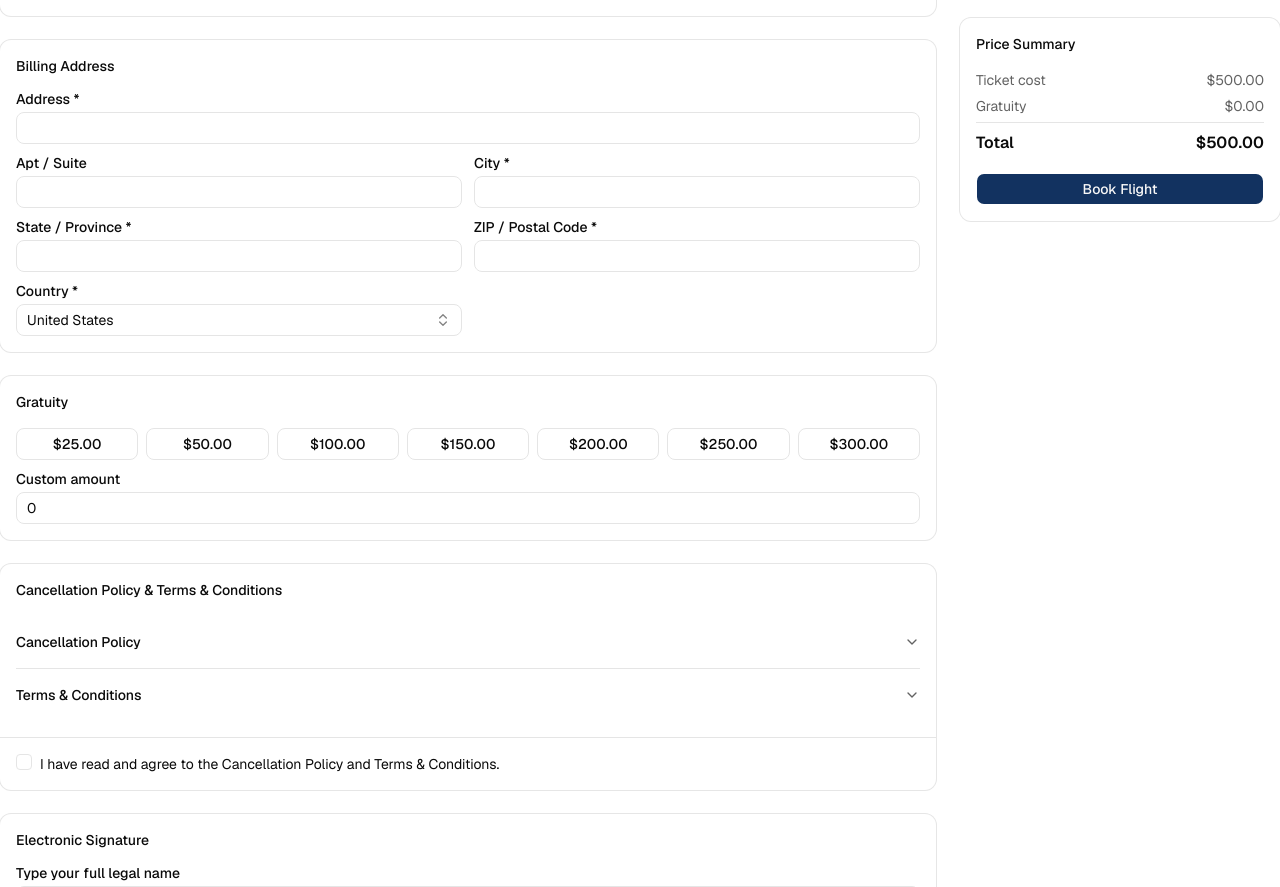
Test case: BookingFlow — Gratuity quick-select amounts › selecting a suggested amount sets the custom-amount input to match
The width and height of the screenshot is (1280, 887).
(page scrolled)
Click the button "$150.00" at [468, 444], box [407,428,529,460]
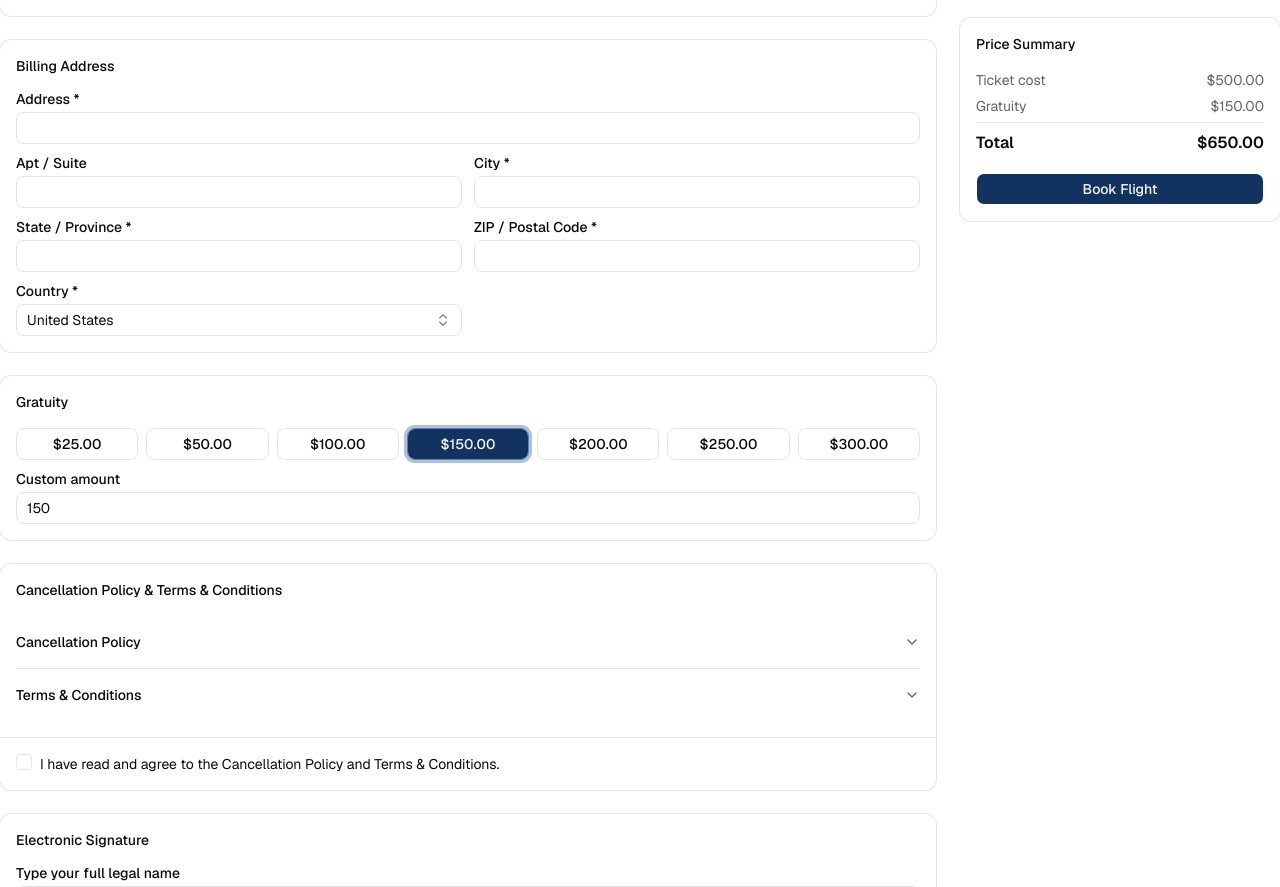
Check: the number field holds "150", box [16,492,920,524]
